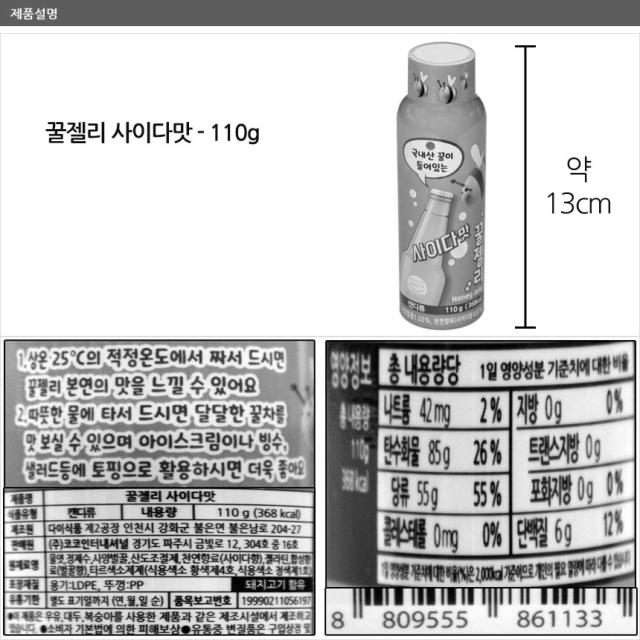Nutrition Label: (320, 334, 640, 584)
